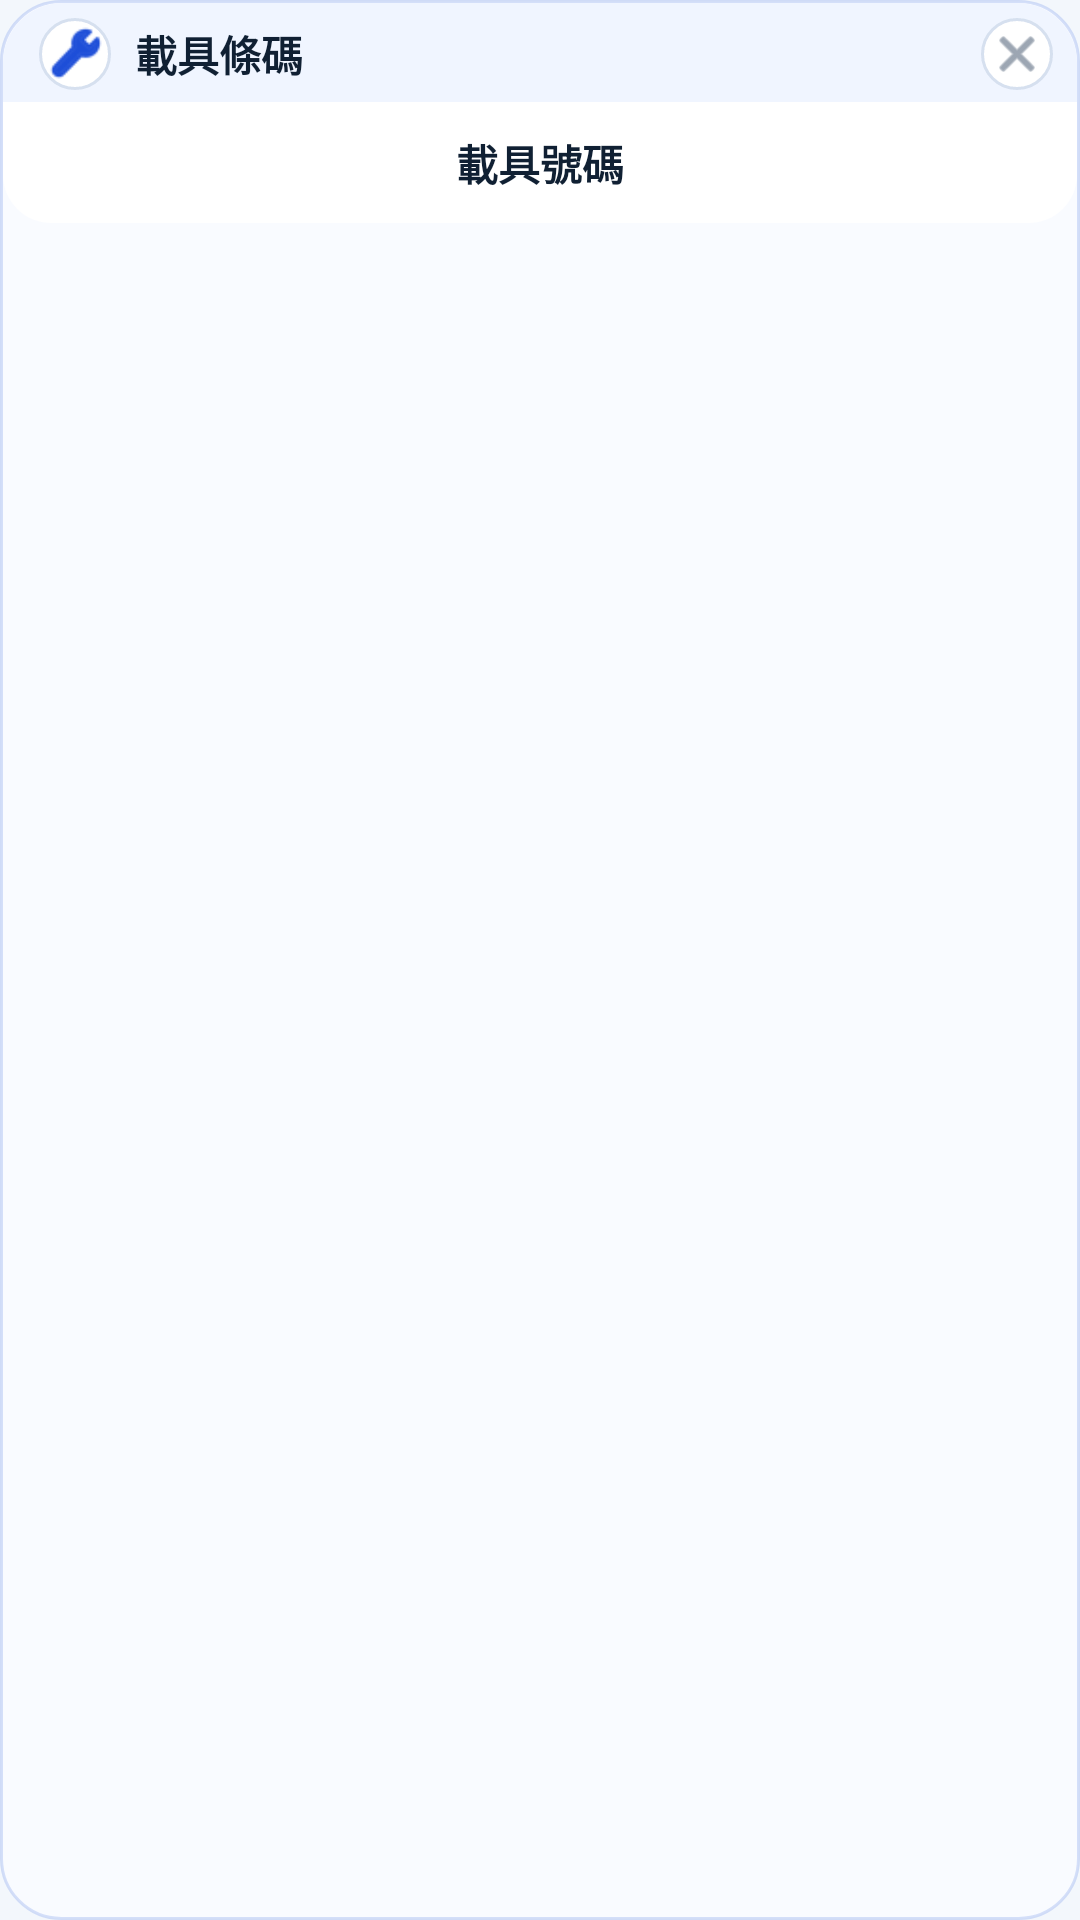

Screen size 1080w x 1920h. Icon name, then its box in pixels as (x1, y1, x2, y2):
開啟設定: (39, 18, 111, 90)
關閉浮動視窗: (981, 18, 1053, 90)
